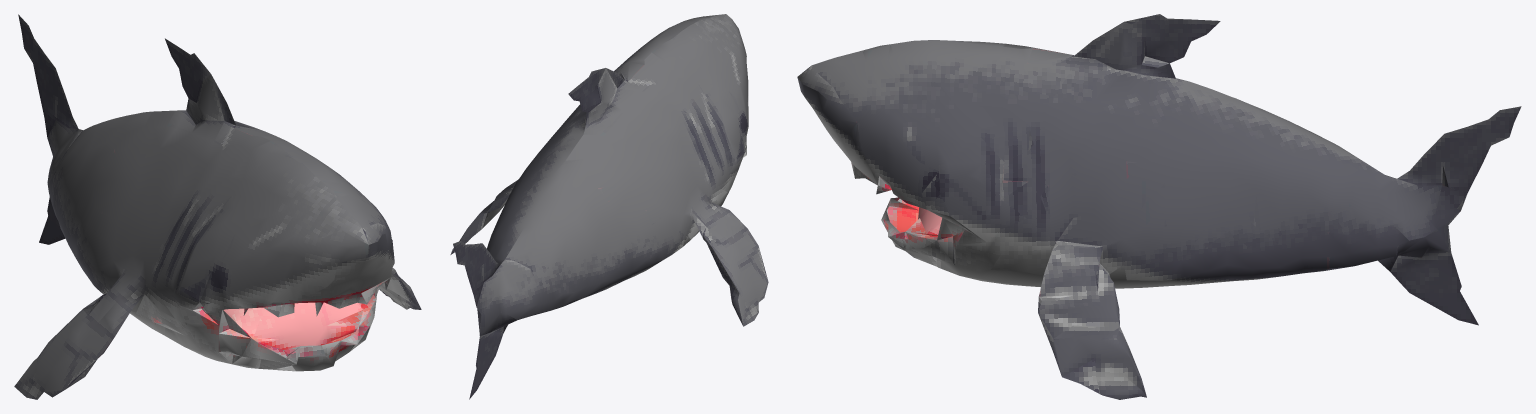
The model's file is wear_shark.glb.
The picture shows the model from 3 angles, left to right: view 1: azimuth 30°, elevation 25°; view 2: azimuth 150°, elevation 25°; view 3: azimuth 270°, elevation 25°; orthographic projection. The views are drawn at different scales.
Visible parts, largest first — view 1: mesh; view 2: mesh; view 3: mesh.
Boxes of the visible parts, x1,y1,x2,y2 form: mesh: [14, 14, 421, 399]; mesh: [450, 14, 768, 399]; mesh: [797, 14, 1521, 399].
Size of the model in its own units: 0.323 by 0.25 by 0.5268.
Materials: 1 (1 with a texture image).
